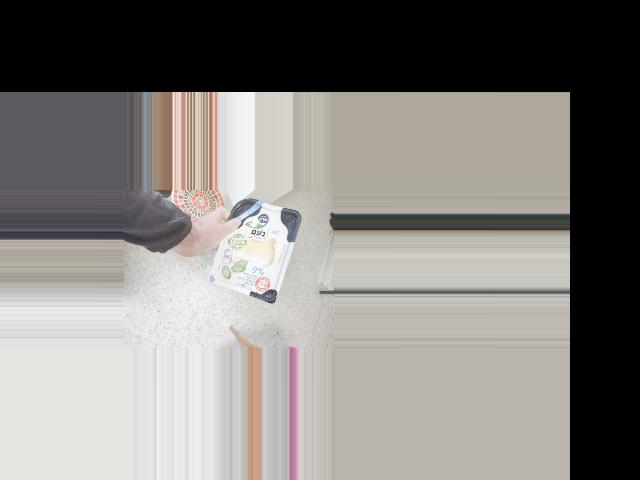cheese: (211, 197, 302, 303)
